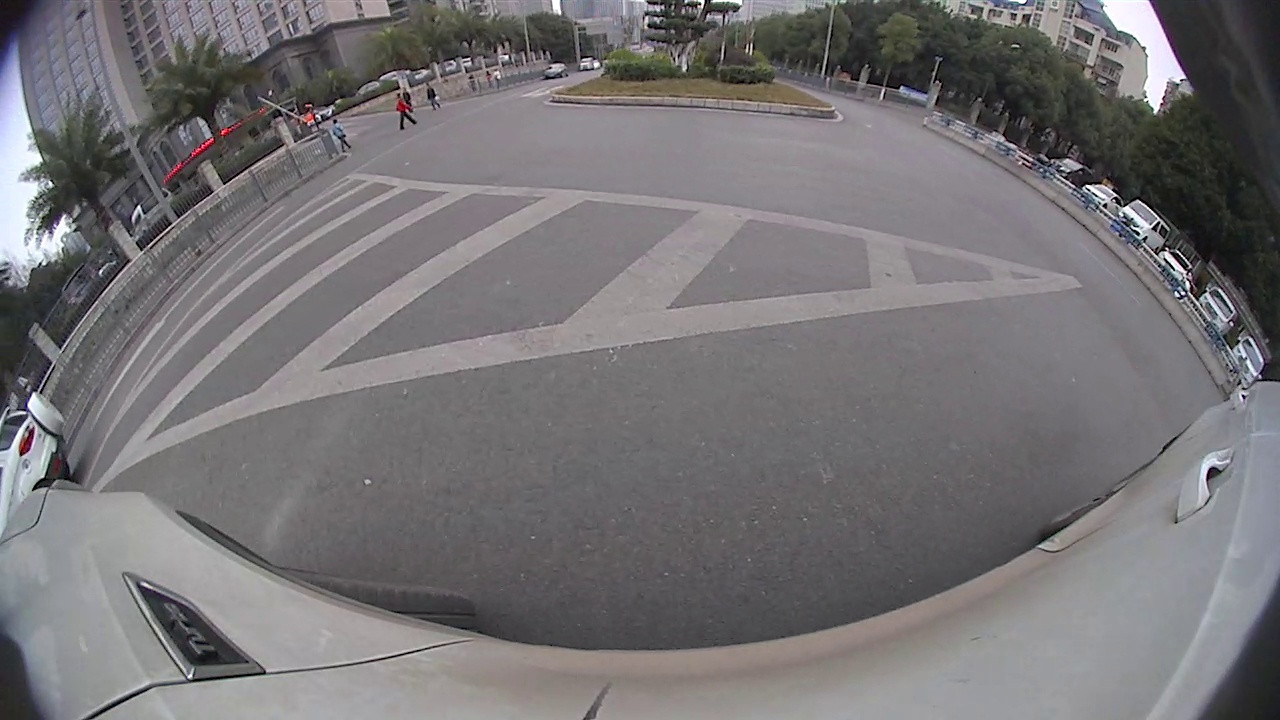car: (0, 388, 73, 544), (1116, 196, 1175, 259), (1191, 283, 1240, 344), (1223, 334, 1268, 392), (1159, 249, 1193, 291)
